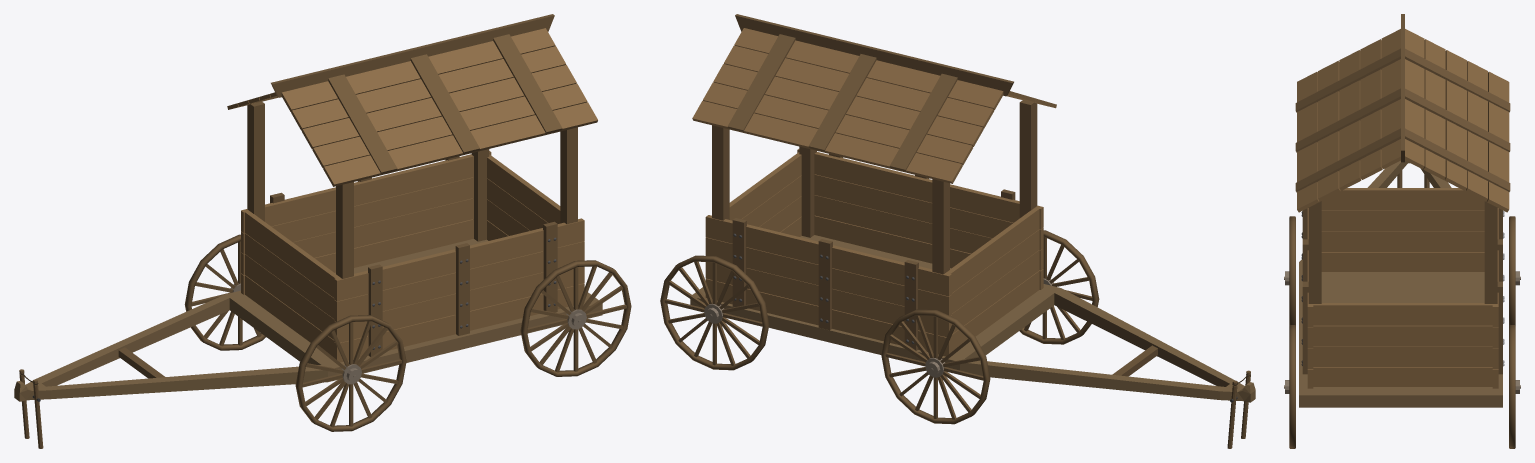
File: Wooden Cart_2.fbx
3 views of the same model, side by side, from view 1: azimuth 30°, elevation 25°; view 2: azimuth 150°, elevation 25°; view 3: azimuth 270°, elevation 25° (orthographic).
Parts seen in each view (by area): view 1: Wooden Cart_2; view 2: Wooden Cart_2; view 3: Wooden Cart_2.
Part boxes in pixels (x1,y1,x2,y2): Wooden Cart_2: (14, 14, 631, 448); Wooden Cart_2: (660, 14, 1255, 448); Wooden Cart_2: (1284, 14, 1520, 448).
Size of the model in its own units: 396 by 213 by 148.
